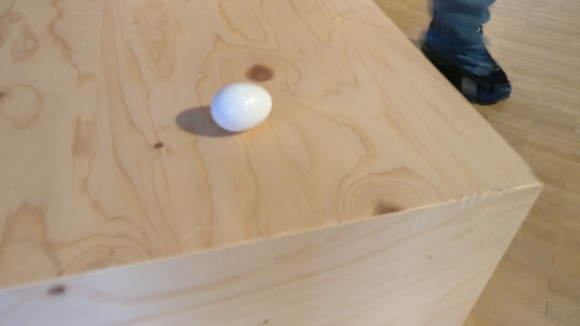egg: (211, 84, 275, 132)
